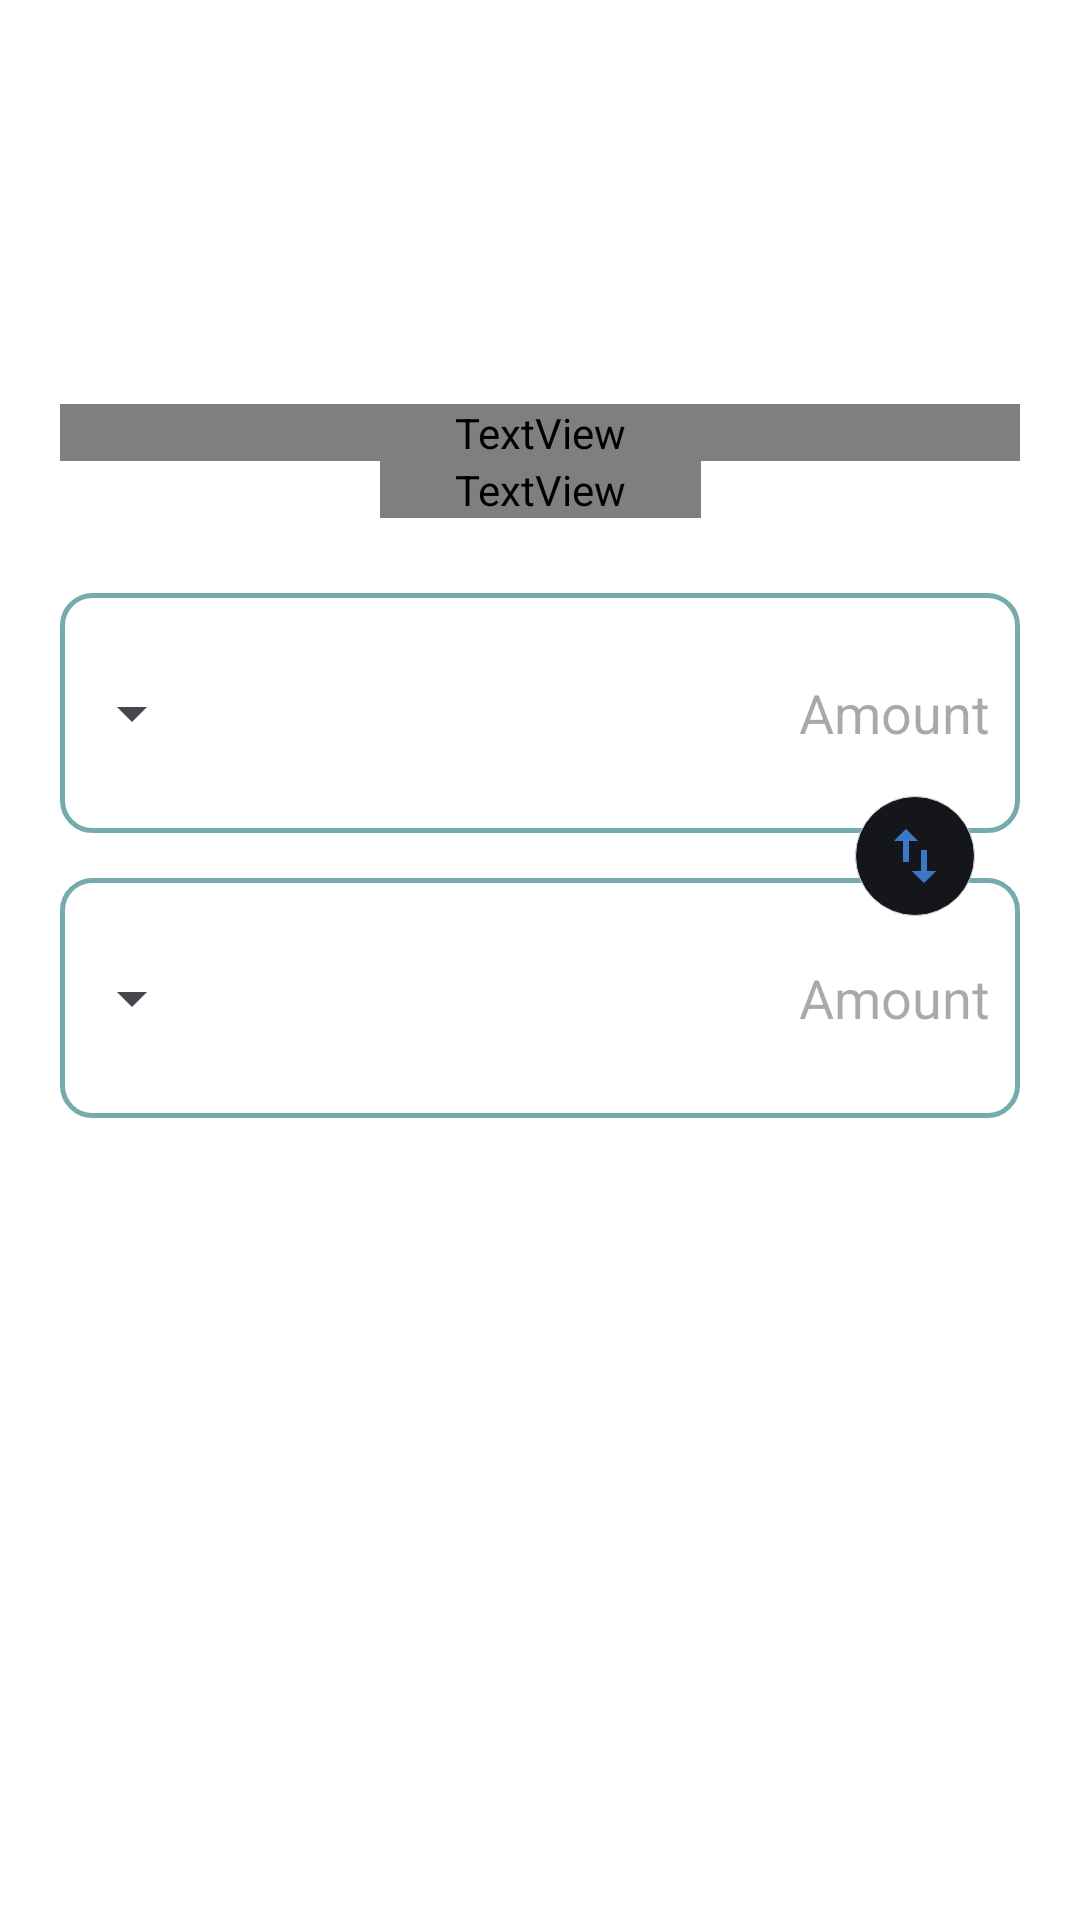

Screen size 1080x1920. Icon name, then its center in pixels as (x,y):
swap convert: (915,856)
